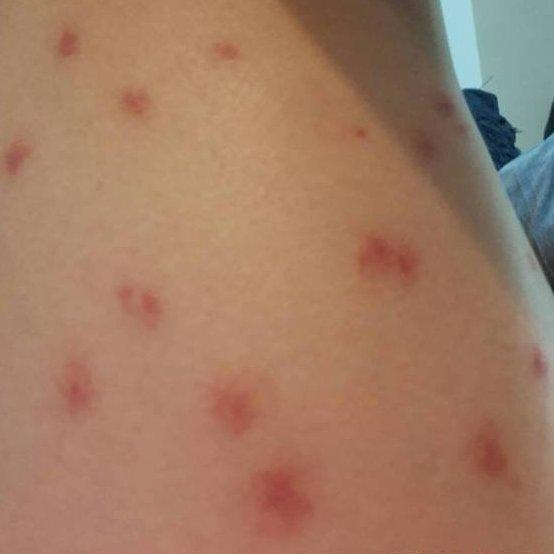Fleas: (448, 412, 546, 509), (241, 460, 317, 542), (350, 227, 423, 290), (108, 272, 173, 335), (47, 355, 102, 422), (205, 375, 259, 436), (111, 81, 166, 130), (399, 120, 442, 171), (0, 135, 35, 182), (430, 86, 464, 124), (342, 121, 375, 148), (532, 345, 551, 386), (209, 39, 242, 62), (56, 30, 78, 57)
